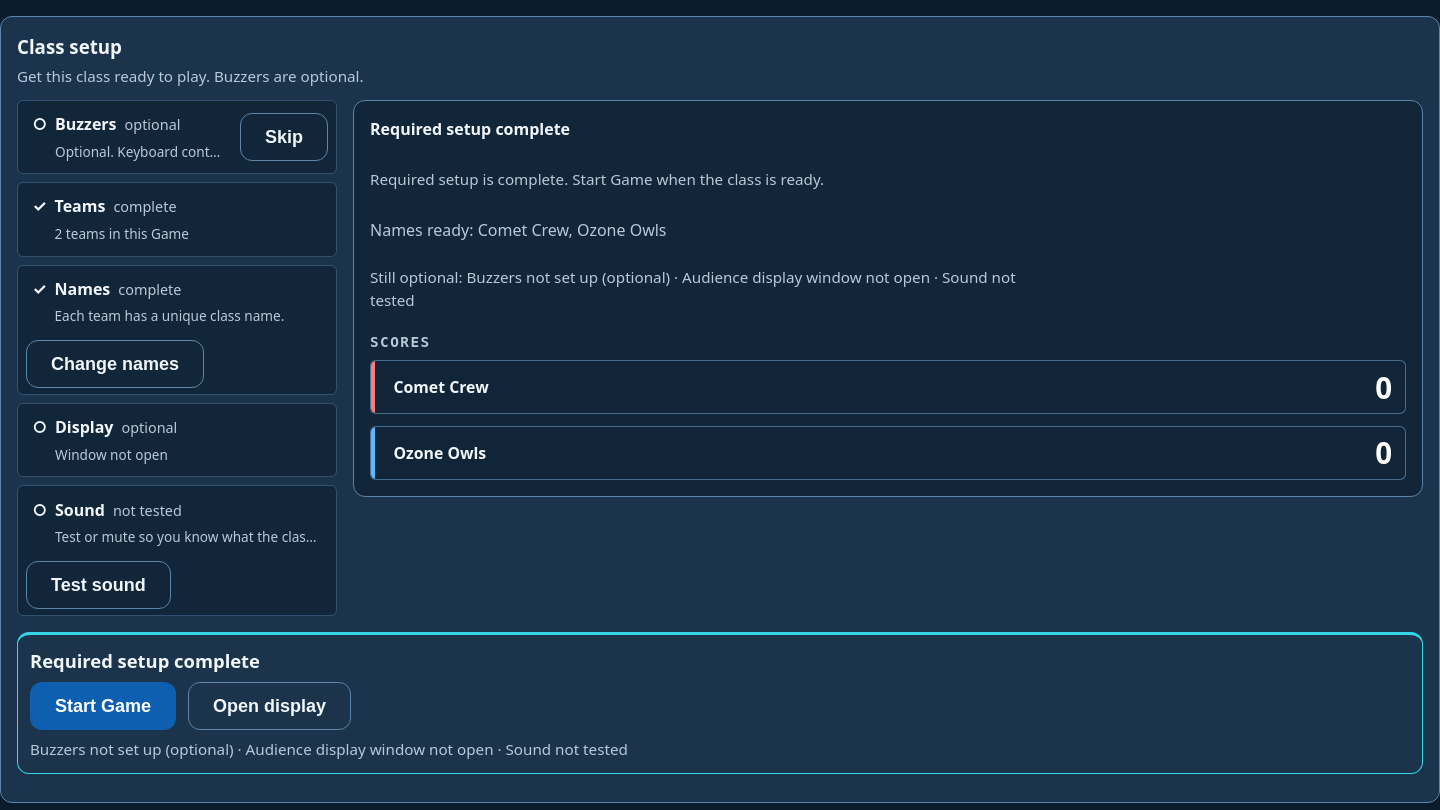
it: ClassroomSetupPanel › keeps five readiness rows visible and expand survives without changing optional status
The image size is (1440, 810).
Check: the list item with test id "setup-row-buzzers" is shown, box [17,100,337,174]
Check: the list item with test id "setup-row-teams" is shown, box [17,182,337,257]
Click the button with test id "readiness-display" at (177, 440), box [26,410,328,471]
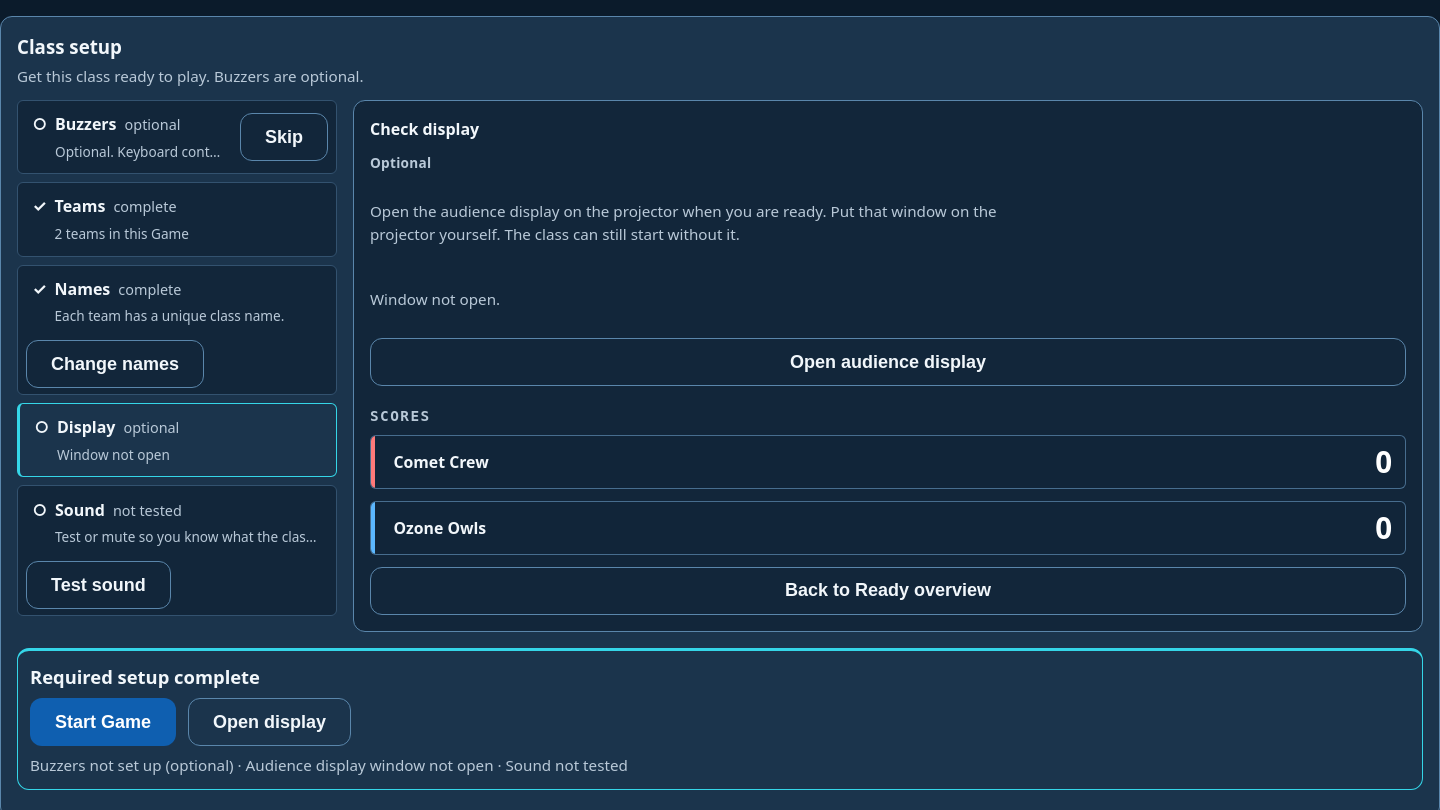
Check: the text with test id "setup-display-fact" shows "Window not open", box [370,289,500,309]
Check: the element with test id "setup-display-task" is shown, box [370,153,1406,614]
